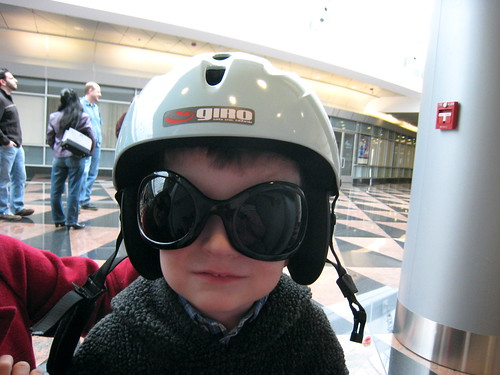helmet: (98, 21, 350, 160)
